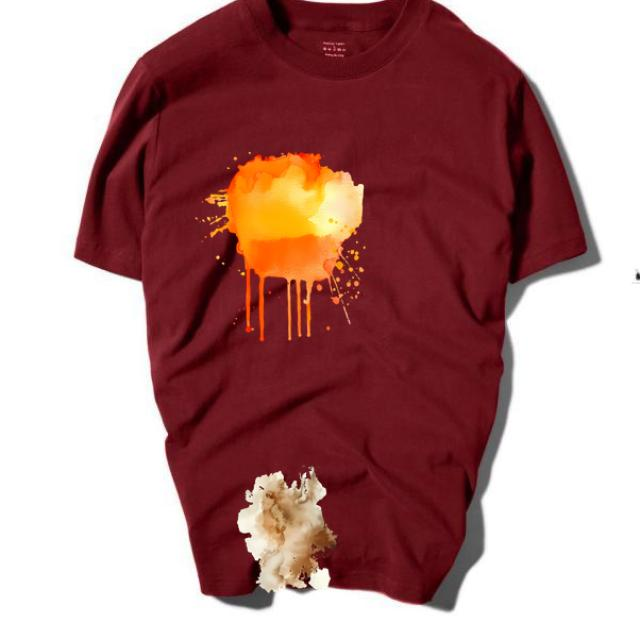stain: (206, 155, 366, 341), (237, 473, 342, 592)
